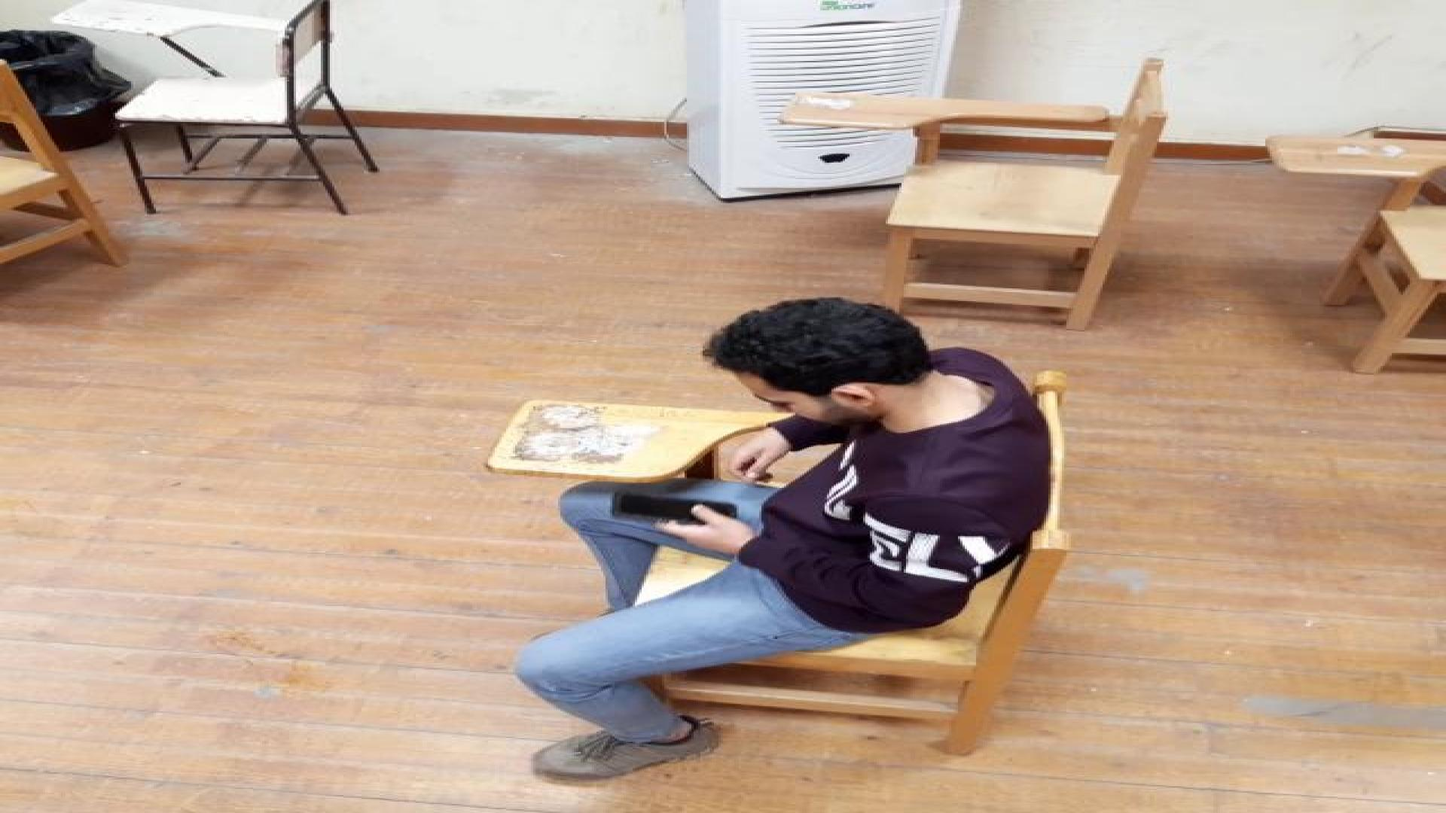phone: (610, 494, 741, 527)
